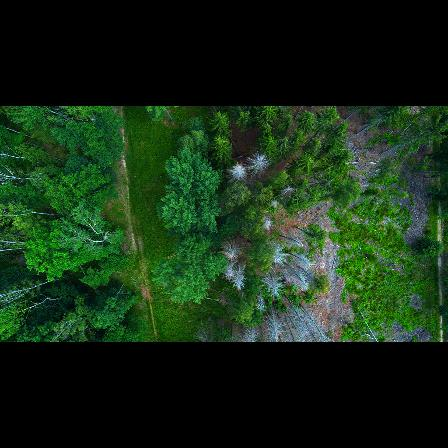Dead: (298, 304, 327, 337), (246, 147, 270, 176), (285, 252, 315, 268), (266, 273, 285, 296), (228, 160, 248, 180), (234, 263, 248, 291), (225, 237, 242, 259), (277, 233, 305, 246), (265, 305, 276, 338), (284, 307, 300, 329), (299, 315, 315, 337), (290, 270, 307, 290), (280, 318, 296, 339), (225, 258, 236, 281), (267, 199, 282, 213), (262, 217, 275, 231), (248, 325, 259, 340), (281, 185, 294, 195)
